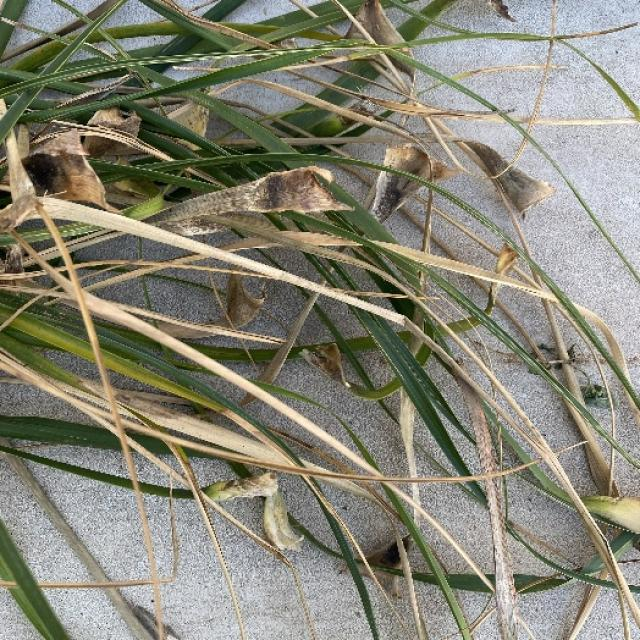organik: (2, 0, 631, 598)
